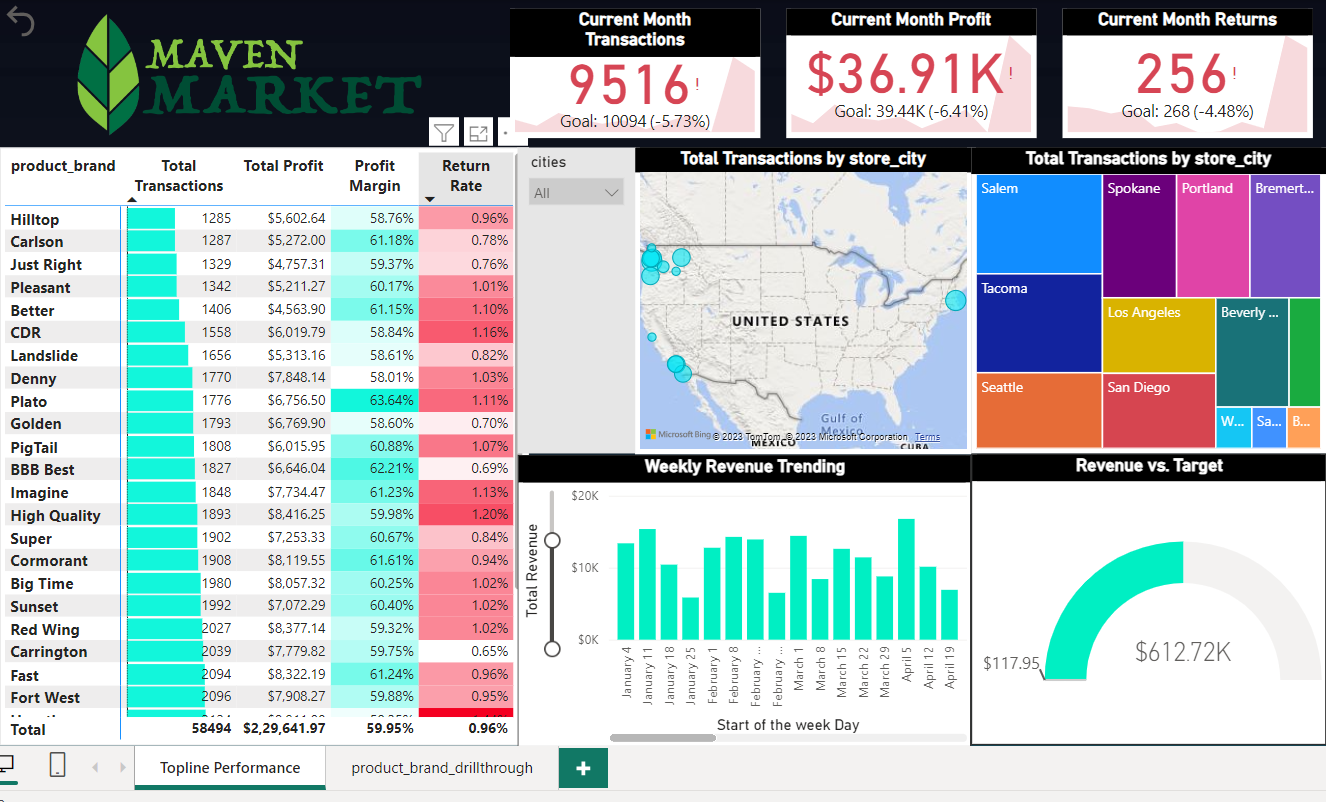

The page's visual inventory and layout, read from the dashboard file:
{"tool":"powerbi","page":{"name":"Topline Performance","canvas":[1280,720],"ordinal":0},"visuals":[{"type":"image","box":[0,0,477.6,142.3],"z":0},{"type":"pivotTable","fields":{"Values":["Transaction_Data.Total Transactions","Products.Total Profit","Products.Profit Margin","Transaction_Data.Return Rate"],"Rows":["Products.product_brand"]},"box":[0,142.3,510.2,576.5],"z":1000},{"type":"kpi","title":"Current Month Transactions","fields":{"Goal":["Products.Last Month Transactions"],"Indicator":["Transaction_Data.Total Transactions"],"TrendLine":["Calendar.Start of the Month"]},"box":[491.5,8.7,241.4,124.4],"z":2000},{"type":"kpi","title":"Current Month Returns","fields":{"TrendLine":["Calendar.Start of the Month"],"Indicator":["Returns_Data.Total Returns"],"Goal":["Products.Last Month Returns"]},"box":[1025.4,8.7,241.4,124.4],"z":3000},{"type":"kpi","title":"Current Month Profit","fields":{"TrendLine":["Calendar.Start of the Month"],"Indicator":["Products.Total Profit"],"Goal":["Products.Last Month Profit"]},"box":[758.5,8.7,241.4,124.4],"z":4000},{"type":"map","fields":{"Size":["Transaction_Data.Total Transactions"],"Category":["Stores.store_city"]},"box":[612.4,142.6,324.8,296.3],"z":5000},{"type":"treemap","fields":{"Values":["Transaction_Data.Total Transactions"],"Group":["Stores.store_country","Stores.store_state","Stores.store_city"]},"box":[937.1,142.3,342.5,295.5],"z":6000},{"type":"columnChart","title":"Weekly Revenue Trending","fields":{"Y":["Products.Total Revenue"],"Category":["Calendar.Start of the week.Variation.Date Hierarchy.Month","Calendar.Start of the week.Variation.Date Hierarchy.Day"]},"box":[499.6,438.8,437.6,281.4],"z":7000},{"type":"gauge","title":"Revenue vs. Target","fields":{"Y":["Products.Total Revenue"],"TargetValue":["Products.Revenue Target"]},"box":[937.1,437.8,342.5,281],"z":8000},{"type":"actionButton","box":[0,0,49.3,40],"z":9000},{"type":"slicer","fields":{"Values":["Stores.store_city"]},"box":[499.3,142.3,113.4,295.5],"z":10000}]}

Visuals, with their boxes on the page's 1280x720 design canvas (x1, y1, x2, y2). These are canvas units, not pixel positions in the 1326x802 screenshot, which may show the page scaled, cropped or inside an application window:
image: pyautogui.locateOnScreen(0, 0, 478, 142)
pivotTable - Transaction_Data.Total Transactions x Products.Total Profit: pyautogui.locateOnScreen(0, 142, 510, 719)
"Current Month Transactions" kpi: pyautogui.locateOnScreen(492, 9, 733, 133)
"Current Month Returns" kpi: pyautogui.locateOnScreen(1025, 9, 1267, 133)
"Current Month Profit" kpi: pyautogui.locateOnScreen(758, 9, 1000, 133)
map - Transaction_Data.Total Transactions x Stores.store_city: pyautogui.locateOnScreen(612, 143, 937, 439)
treemap - Transaction_Data.Total Transactions x Stores.store_country: pyautogui.locateOnScreen(937, 142, 1280, 438)
"Weekly Revenue Trending" columnChart: pyautogui.locateOnScreen(500, 439, 937, 720)
"Revenue vs. Target" gauge: pyautogui.locateOnScreen(937, 438, 1280, 719)
actionButton: pyautogui.locateOnScreen(0, 0, 49, 40)
slicer - Stores.store_city: pyautogui.locateOnScreen(499, 142, 613, 438)
